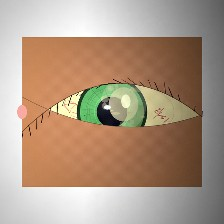corneal_ulcer: (96, 82, 151, 126)
